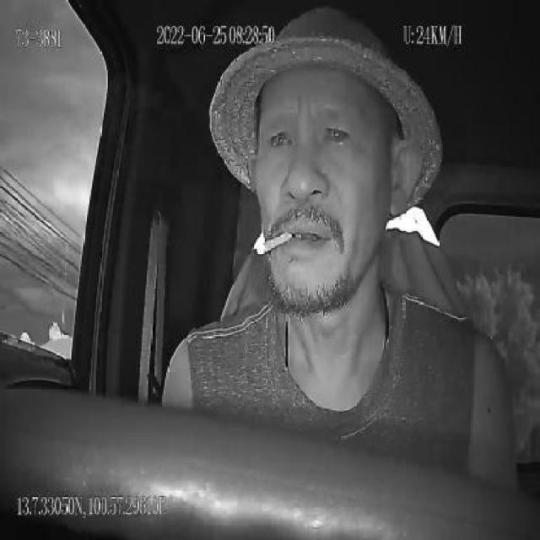smoking: (255, 230, 293, 261)
